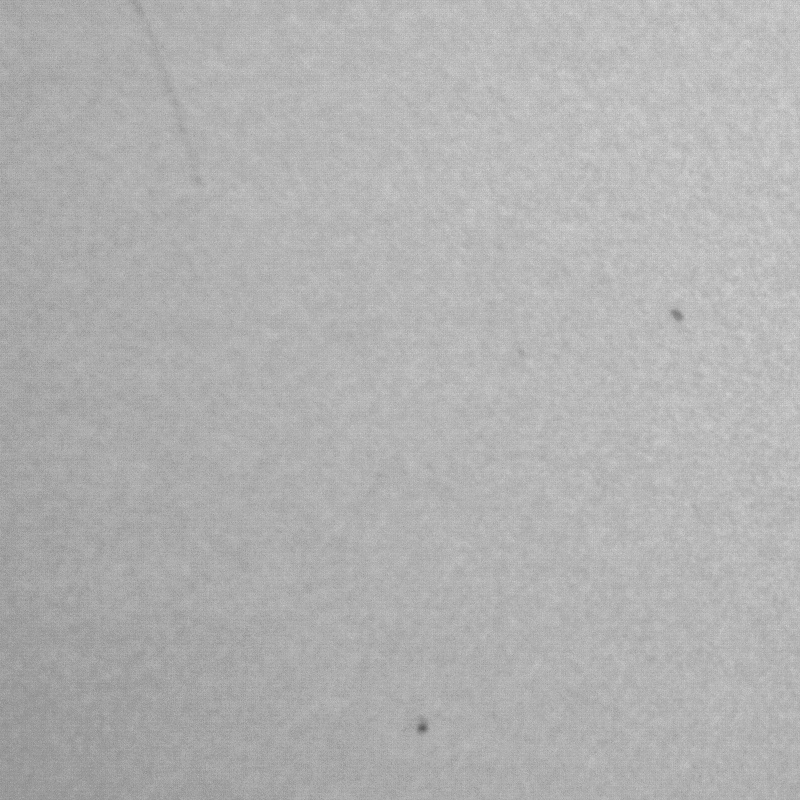defect: (131, 1, 203, 188), (414, 720, 435, 739), (672, 304, 689, 327)
